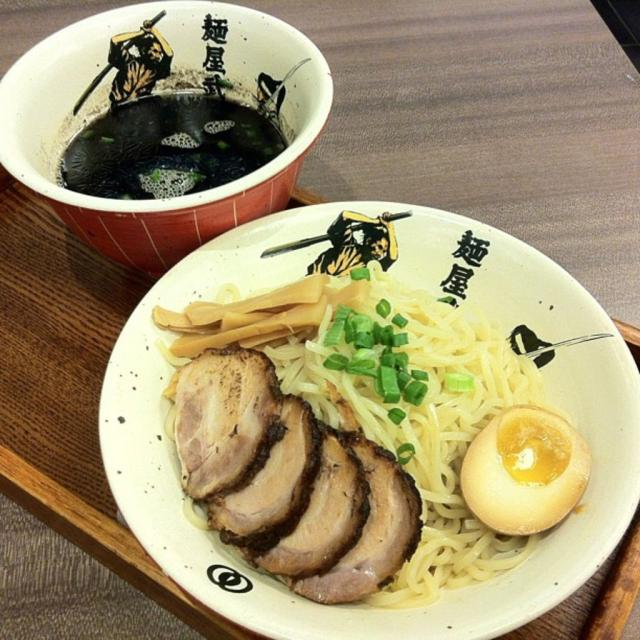Egg: (456, 402, 597, 538)
